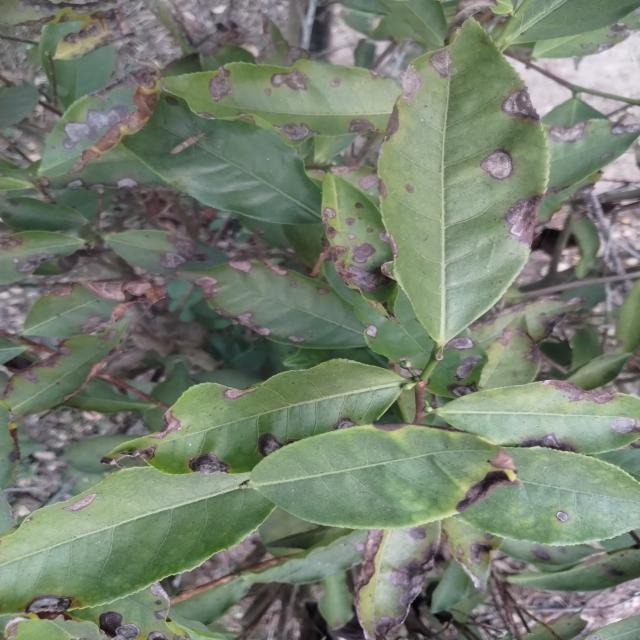Leaf: (378, 19, 549, 348), (0, 466, 275, 614), (106, 359, 401, 474), (248, 425, 515, 529), (123, 92, 321, 226), (164, 59, 401, 143), (462, 447, 640, 545), (180, 261, 364, 349), (434, 380, 640, 455), (39, 67, 161, 177), (3, 320, 128, 417), (356, 521, 440, 640), (323, 173, 392, 302), (22, 281, 165, 337), (544, 119, 640, 191), (240, 530, 367, 584), (353, 289, 433, 372), (39, 21, 115, 108), (70, 583, 181, 640), (503, 0, 640, 45), (507, 548, 640, 592), (532, 8, 640, 59), (105, 230, 226, 274), (443, 515, 502, 592), (480, 316, 540, 390), (0, 231, 83, 284), (426, 330, 487, 398), (175, 576, 252, 625), (62, 378, 155, 413), (381, 0, 447, 47), (0, 197, 88, 231), (63, 434, 135, 473), (567, 352, 631, 390), (430, 559, 475, 613), (318, 572, 353, 629), (0, 82, 38, 130), (615, 279, 640, 351), (521, 614, 587, 640), (572, 218, 599, 278), (496, 634, 517, 640)
